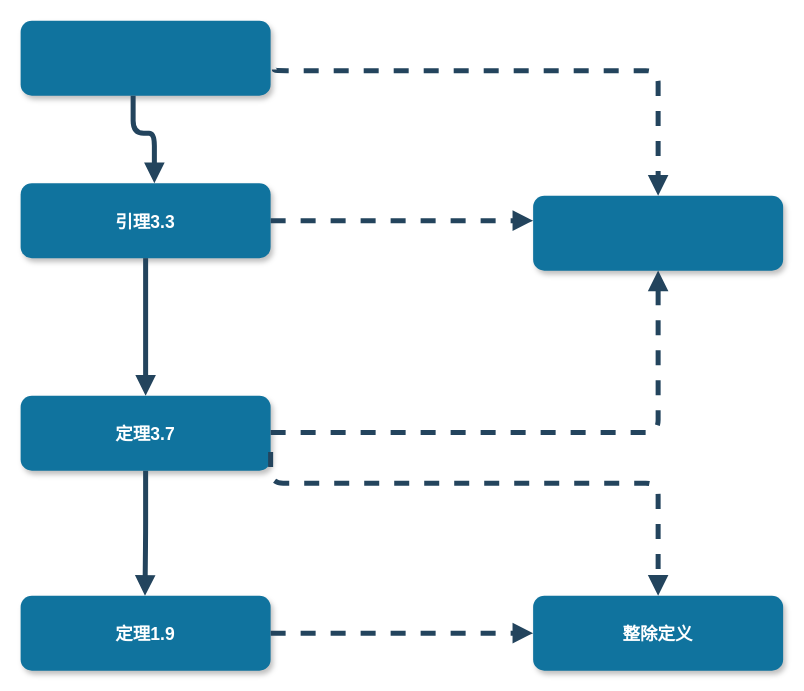
Image size: 804x691. Some labels were removed from this diagram. Each missing label, with the centre of its shape:
gcd之欧几里得算法 定理3.11: point 146,59
最大公因子定义: point 659,234
